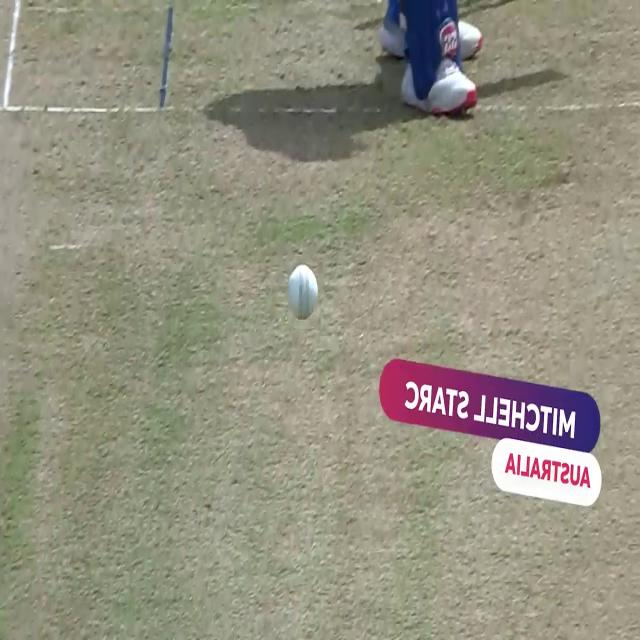ball: (276, 258, 324, 328)
